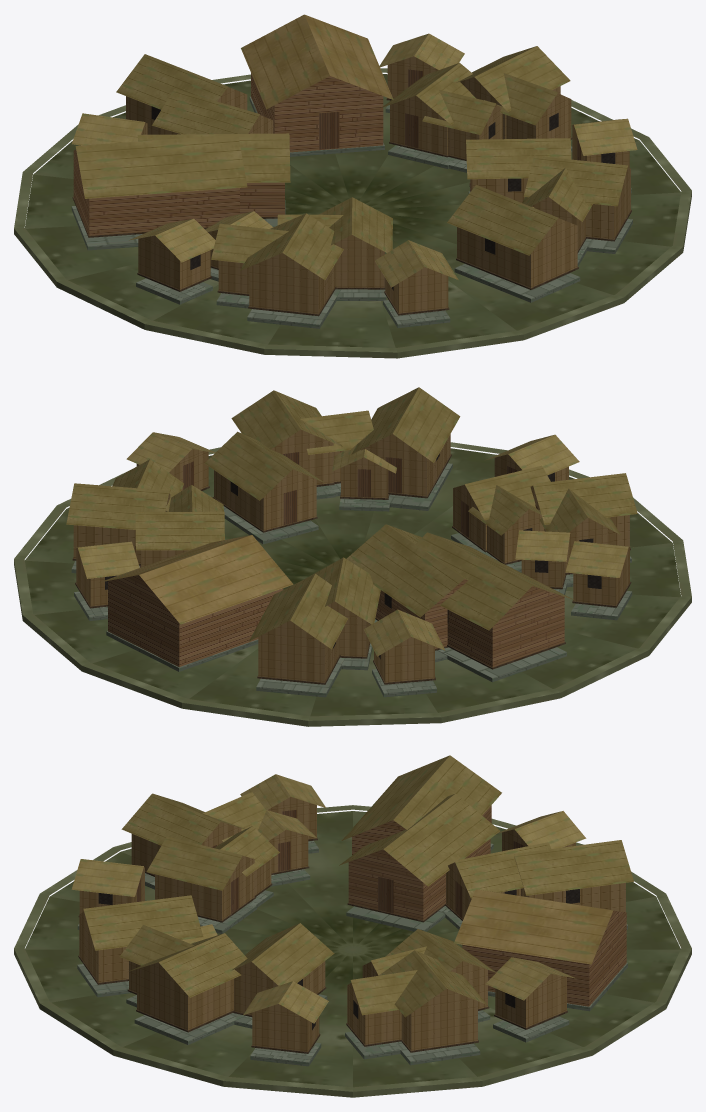
Rendered from ae_jungle_village_small_lod2.glb.
3 views of the same model, one above another, from view 1: azimuth 30°, elevation 25°; view 2: azimuth 150°, elevation 25°; view 3: azimuth 270°, elevation 25° (orthographic).
Visible parts, largest first — view 1: ae_jungle_village_small_lod2; view 2: ae_jungle_village_small_lod2; view 3: ae_jungle_village_small_lod2.
Boxes of the visible parts, x1,y1,x2,y2 form: ae_jungle_village_small_lod2: [14, 14, 691, 358]; ae_jungle_village_small_lod2: [14, 387, 691, 726]; ae_jungle_village_small_lod2: [14, 755, 691, 1097].
Bounding box in the file's own units: 1.9 × 0.2738 × 1.9.
Materials: 1 (1 with a texture image).
